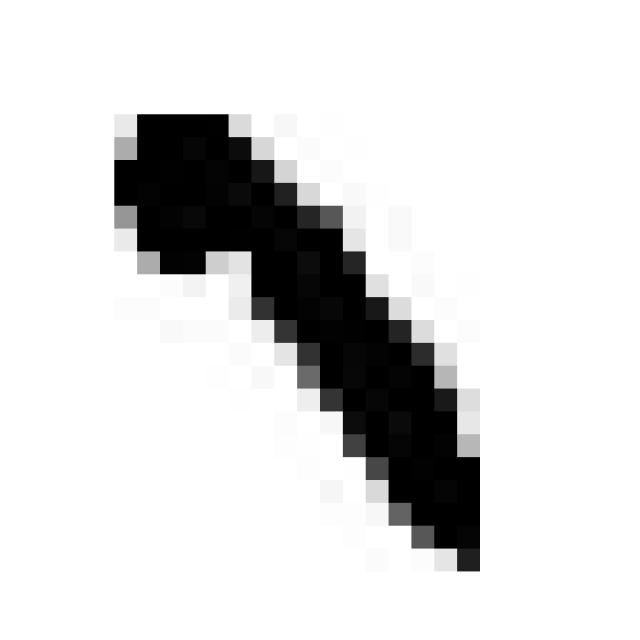0 -zero-: (96, 91, 504, 587)
